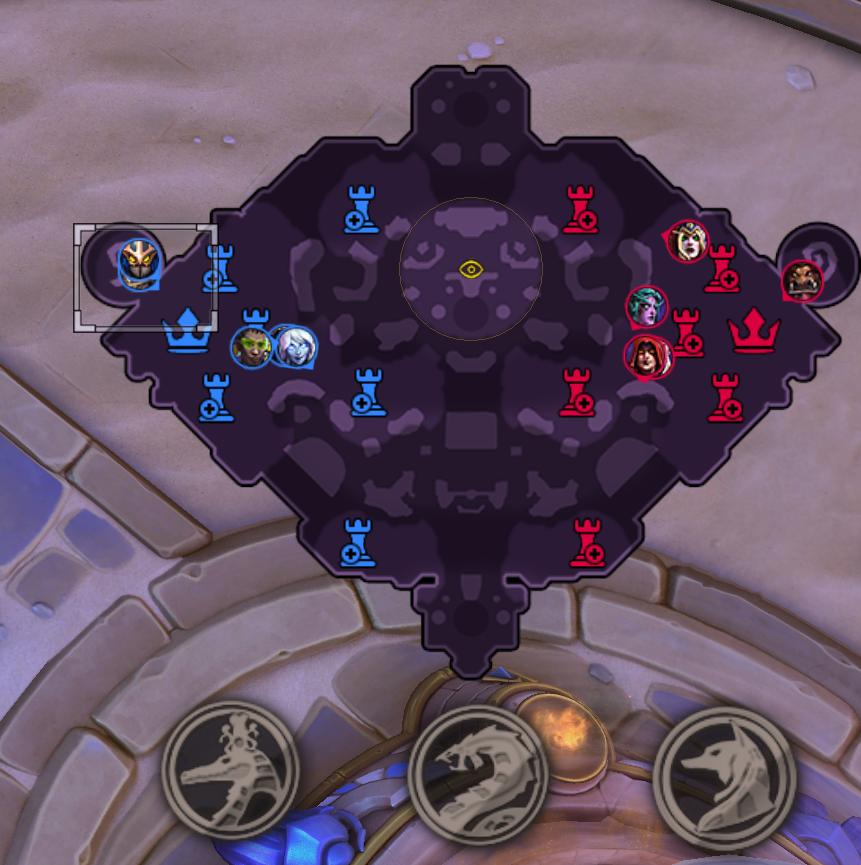blue nexus: (161, 306, 214, 353)
blue player: (116, 236, 163, 291), (270, 323, 317, 369), (230, 325, 275, 369)
blue tower: (334, 514, 381, 571), (349, 365, 387, 417), (197, 370, 235, 422), (202, 240, 239, 293), (343, 182, 380, 234)
red nexus: (726, 306, 780, 353)
red player: (624, 333, 672, 381), (663, 218, 709, 265), (625, 285, 668, 330), (781, 259, 824, 302)
red tower: (557, 366, 596, 418), (561, 183, 599, 236), (568, 515, 606, 568), (706, 372, 744, 423), (703, 245, 741, 294), (671, 308, 703, 358)
